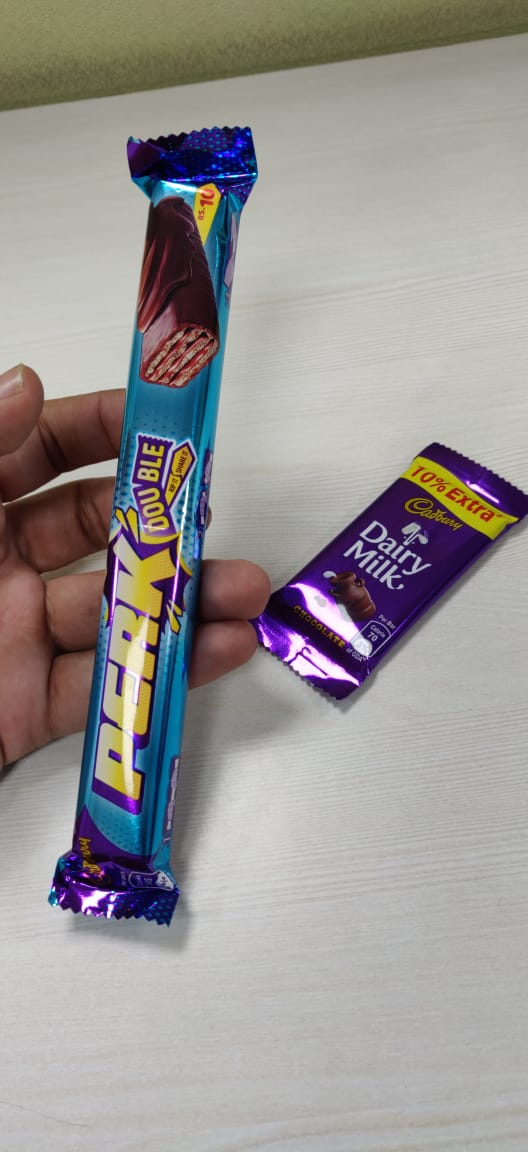dairy milk: (255, 430, 528, 722)
perk: (48, 118, 266, 972)
